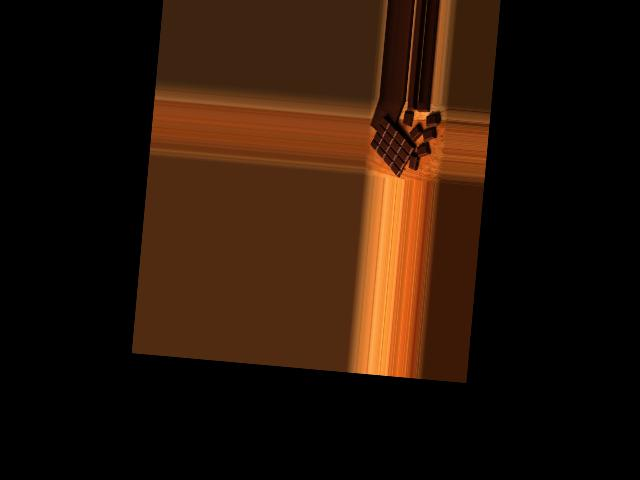chocolate: (367, 115, 420, 176)
